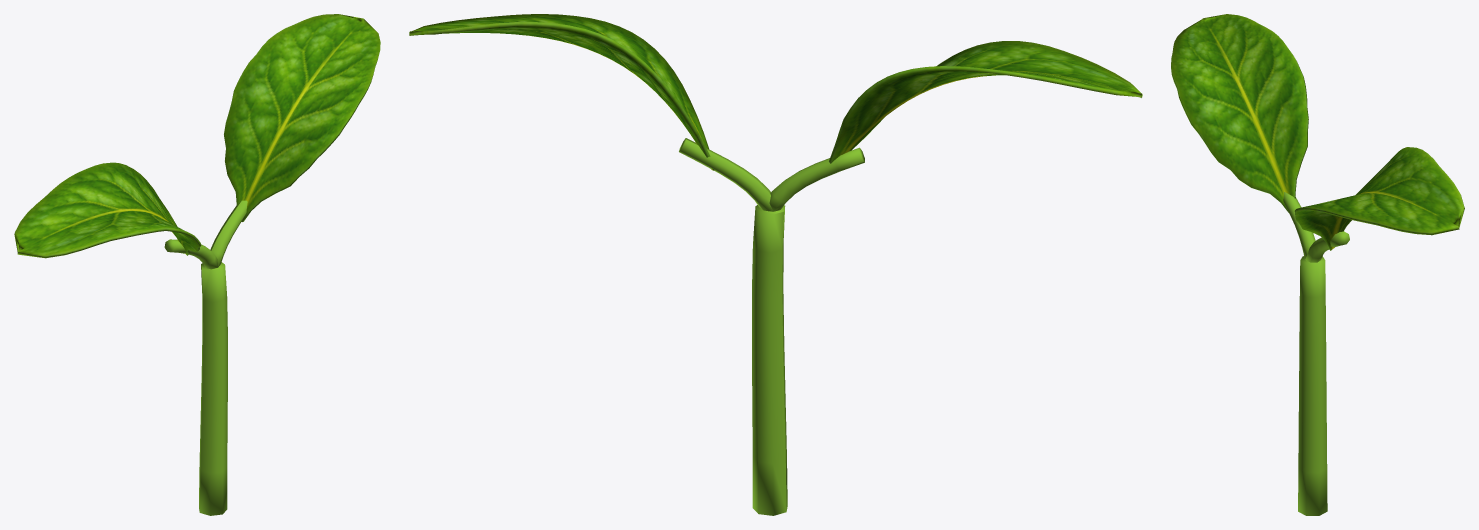
Rendered from NP_WaterSpinach_Sprout.fbx.
3 renders of one model, left to right at view 1: azimuth 30°, elevation 25°; view 2: azimuth 150°, elevation 25°; view 3: azimuth 270°, elevation 25°, orthographic. The views are drawn at different scales.
Visible parts, largest first — view 1: NP_WaterSpinach_Sprout; view 2: NP_WaterSpinach_Sprout; view 3: NP_WaterSpinach_Sprout.
Boxes of the visible parts, x1,y1,x2,y2 form: NP_WaterSpinach_Sprout: (14, 14, 380, 515); NP_WaterSpinach_Sprout: (409, 14, 1142, 515); NP_WaterSpinach_Sprout: (1171, 14, 1464, 515).
Bounding box in the file's own units: 29.54 × 24.27 × 15.51.
